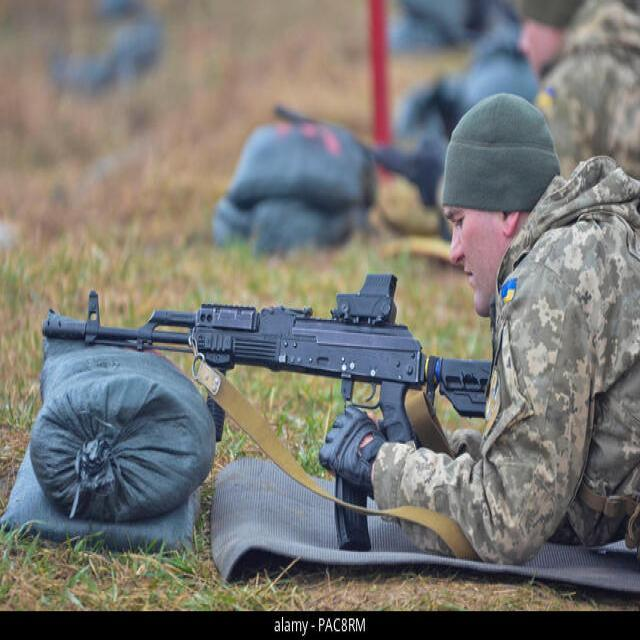weapon: (40, 274, 493, 550)
